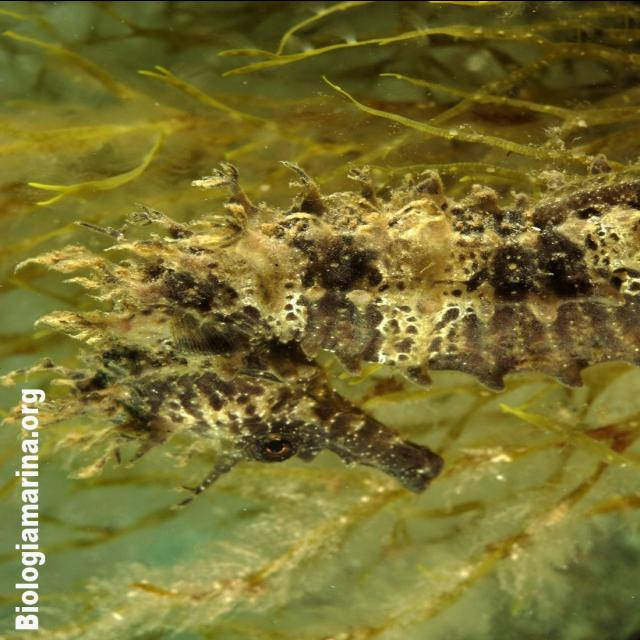Guttu: (71, 316, 449, 500)
